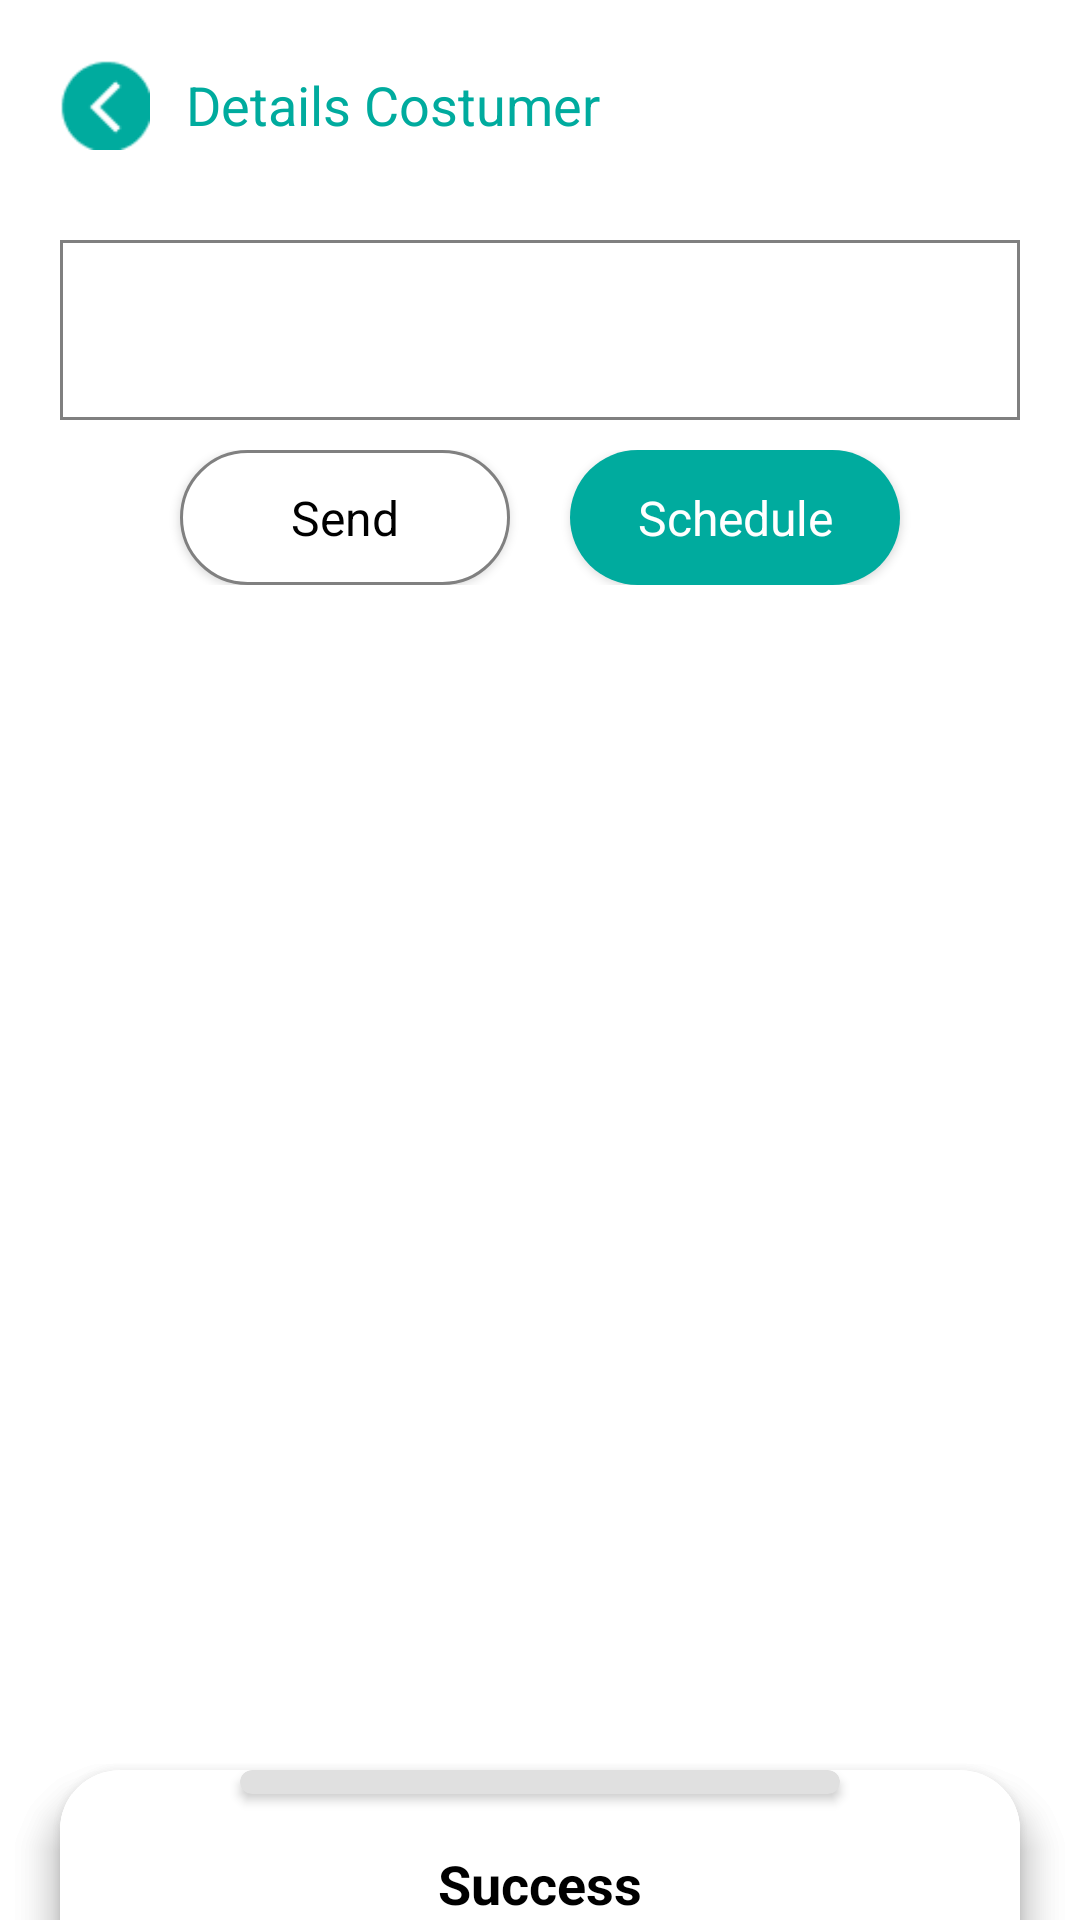

Icons on this 1080×1920 Android screen, each with the point to tap as point (x, y):
back: point (105, 105)
